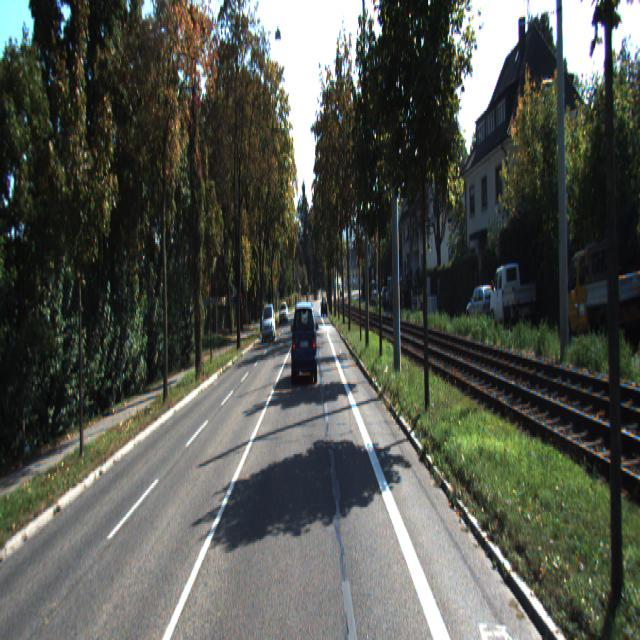Car: (560, 237, 640, 350), (489, 259, 536, 326), (292, 300, 319, 388), (466, 283, 498, 326), (261, 305, 275, 344)
